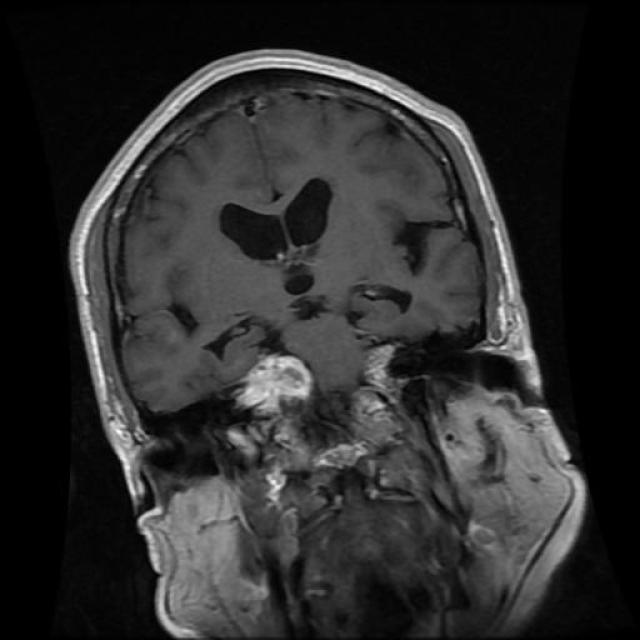Tumor: (238, 354, 318, 415)
